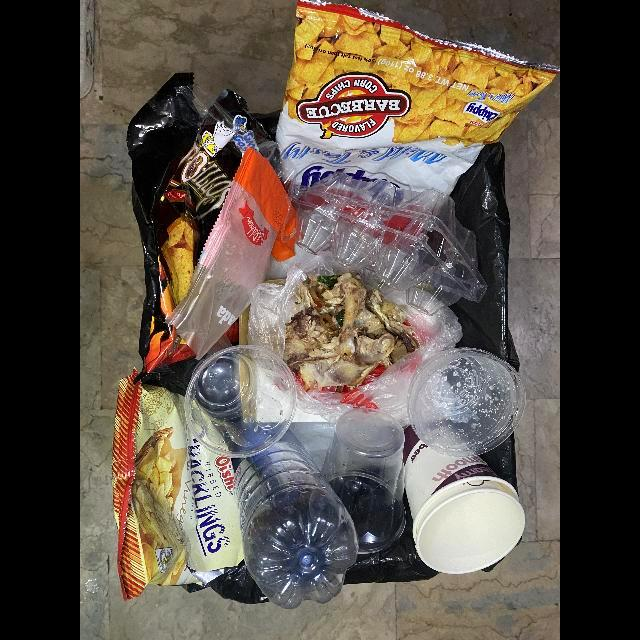food_wrapper: (276, 0, 560, 252), (126, 72, 283, 397), (113, 367, 244, 600), (167, 146, 303, 360)
left_over_food: (283, 273, 412, 387)
plastic_bottle: (234, 421, 360, 609)
plastic_container: (290, 172, 489, 316), (309, 408, 407, 553)
